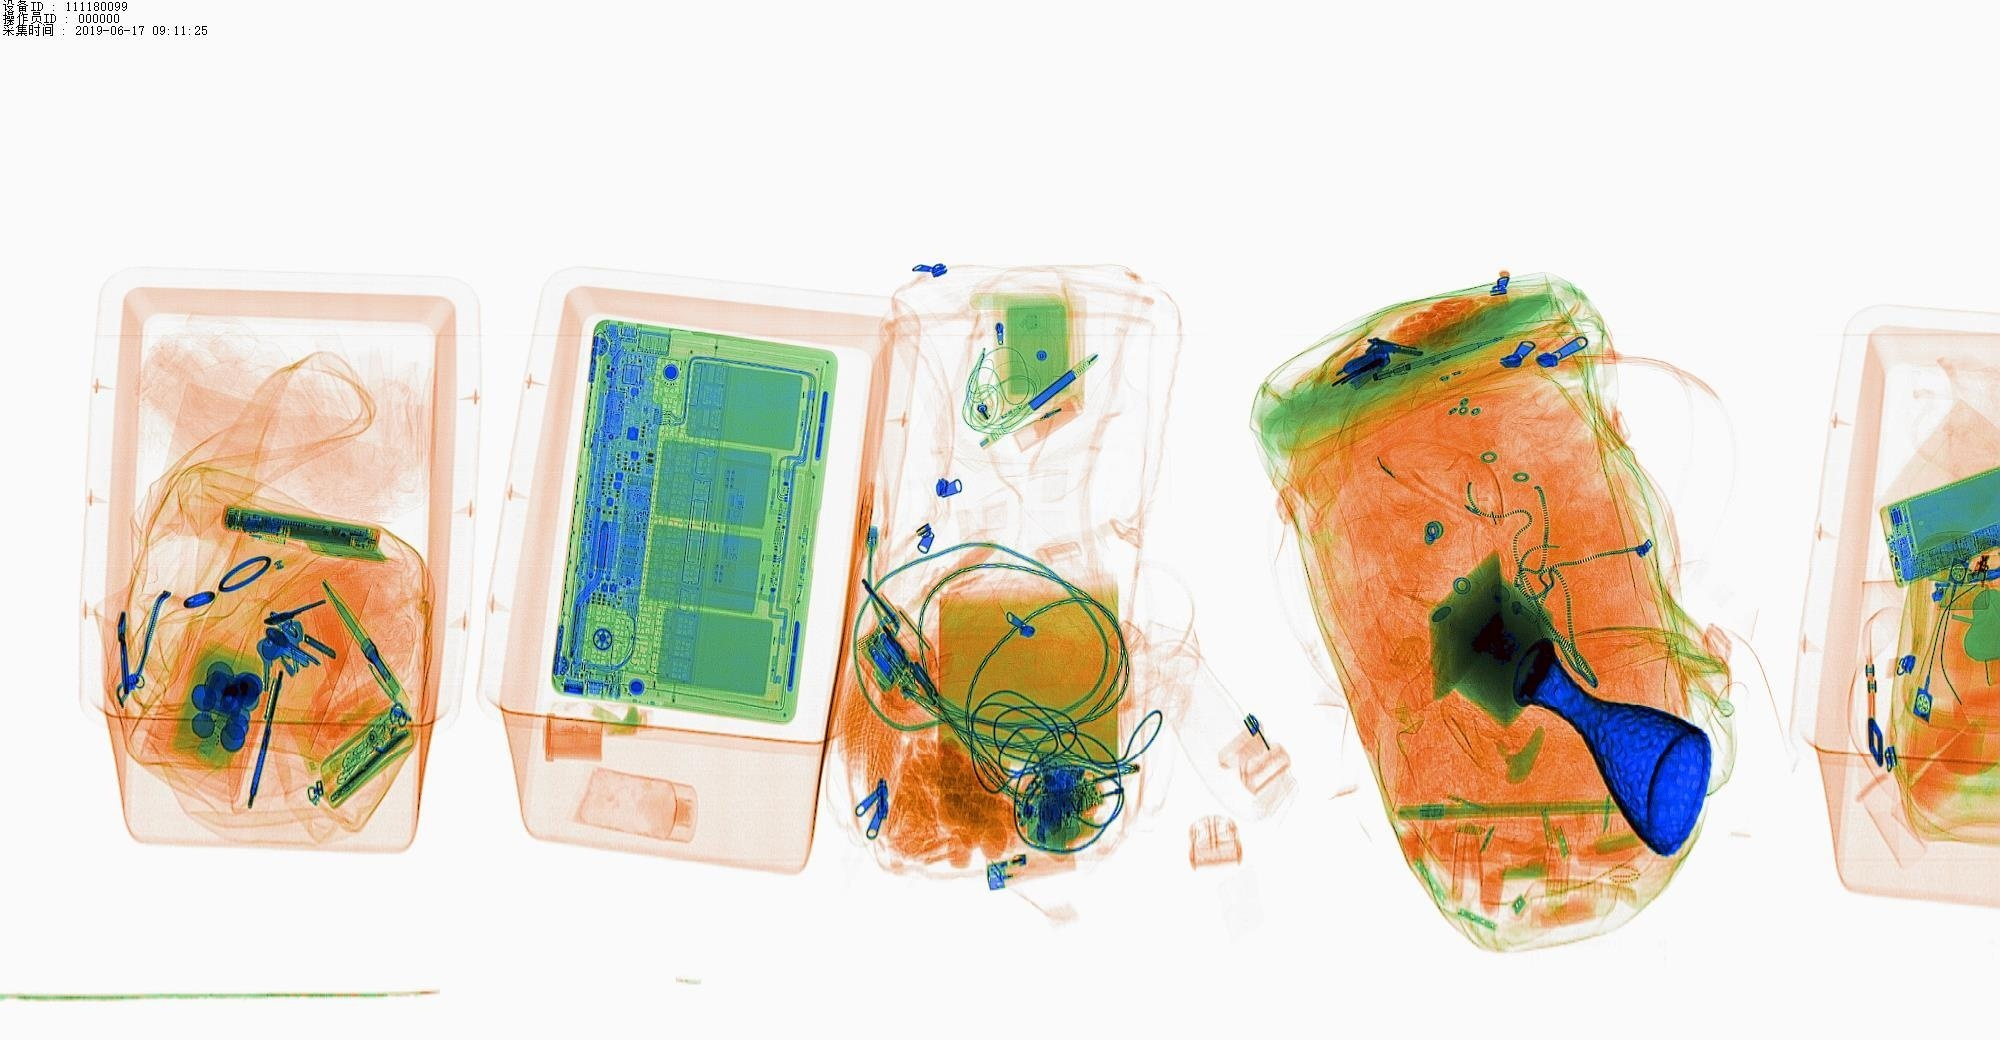NonmetallicFire: (976, 843, 1083, 894)
